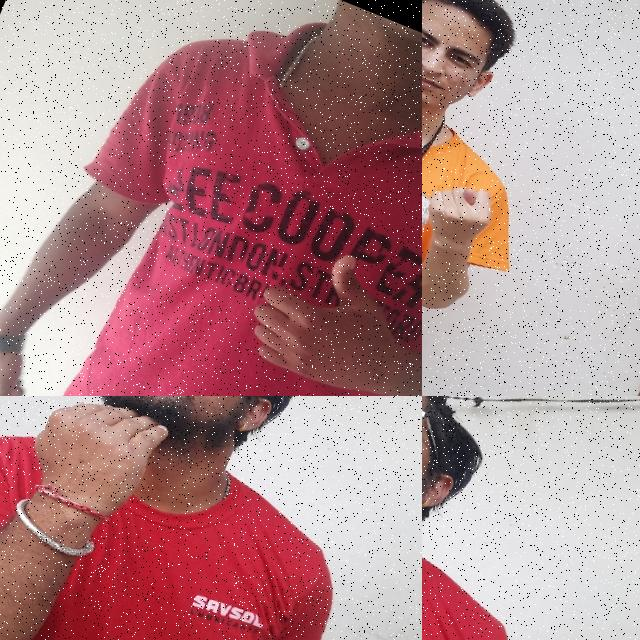Chin Flick: (0, 396, 332, 583), (422, 396, 514, 640)
Dulya: (422, 162, 510, 270)
Thumbs Up: (226, 222, 422, 396)
